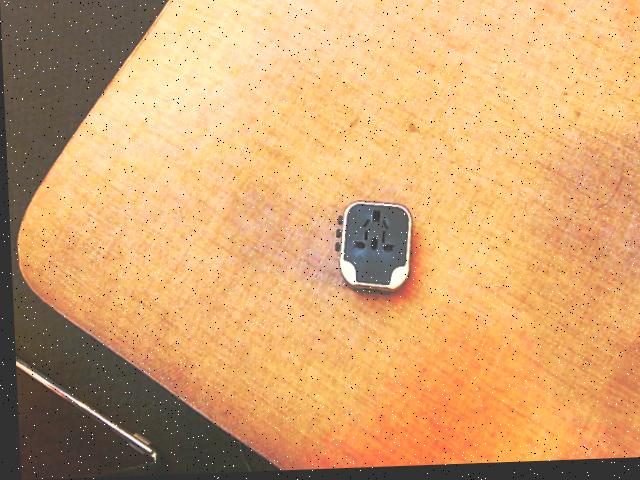adapter: (330, 201, 412, 298)
